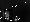person: (5, 10, 13, 22), (15, 9, 20, 21)
